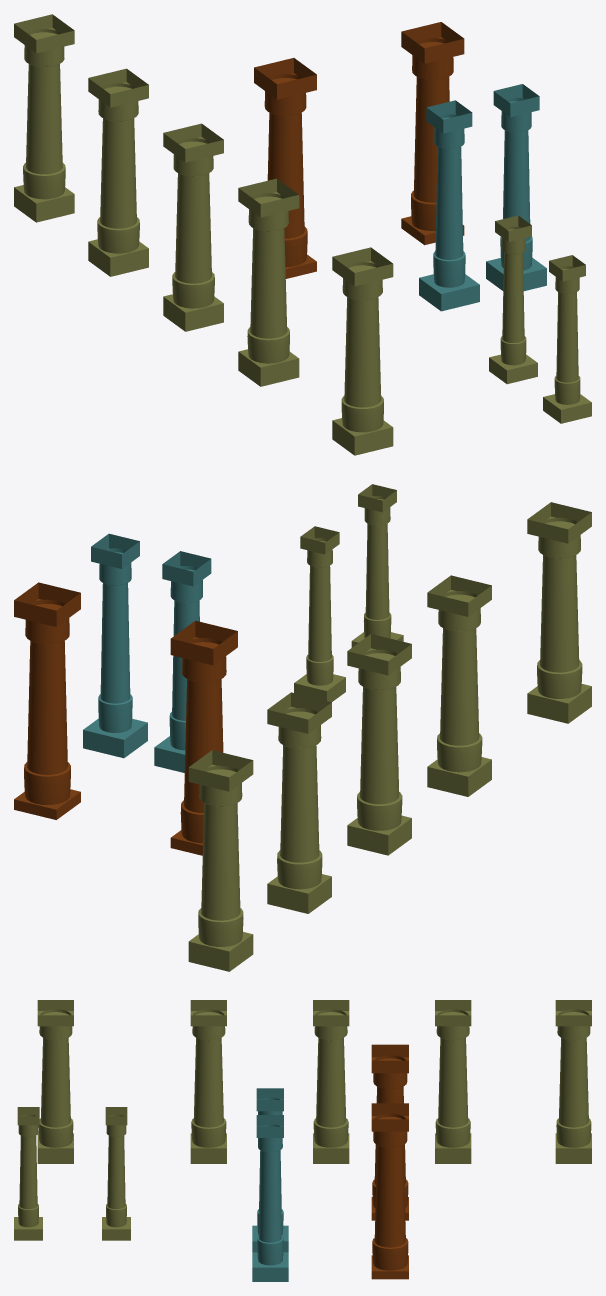
File: External_Column.fbx
3 views of the same model, one above another, from view 1: azimuth 30°, elevation 25°; view 2: azimuth 150°, elevation 25°; view 3: azimuth 270°, elevation 25° (orthographic). The views are drawn at different scales.
Parts seen in each view (by area): view 1: Column_2, Column_1, Column_4, Column_3, Column_5, Column_balcon_1, Column_balcon_3, Column_balcon_4, Column_balcon_2, Column_small_2, Column_small_1; view 2: Column_balcon_4, Column_5, Column_4, Column_2, Column_1, Column_3, Column_balcon_2, Column_balcon_3, Column_small_2, Column_balcon_1, Column_small_1; view 3: Column_balcon_4, Column_5, Column_3, Column_2, Column_1, Column_4, Column_balcon_2, Column_small_1, Column_small_2, Column_balcon_3, Column_balcon_1.
Boxes of the visible parts, left/top/right/bottom form: Column_2: left=238, top=178, right=299, bottom=386; Column_1: left=332, top=247, right=393, bottom=455; Column_4: left=88, top=68, right=148, bottom=276; Column_3: left=163, top=123, right=223, bottom=331; Column_5: left=14, top=14, right=74, bottom=222; Column_balcon_1: left=419, top=100, right=479, bottom=311; Column_balcon_3: left=254, top=58, right=316, bottom=278; Column_balcon_4: left=401, top=22, right=464, bottom=245; Column_balcon_2: left=486, top=84, right=546, bottom=291; Column_small_2: left=489, top=215, right=537, bottom=384; Column_small_1: left=543, top=255, right=591, bottom=423; Column_balcon_4: left=14, top=582, right=80, bottom=819; Column_5: left=188, top=750, right=253, bottom=971; Column_4: left=267, top=692, right=331, bottom=913; Column_2: left=427, top=575, right=491, bottom=796; Column_1: left=527, top=502, right=591, bottom=723; Column_3: left=347, top=634, right=411, bottom=855; Column_balcon_2: left=83, top=533, right=147, bottom=758; Column_balcon_3: left=170, top=620, right=237, bottom=855; Column_small_2: left=294, top=526, right=345, bottom=702; Column_balcon_1: left=154, top=551, right=211, bottom=772; Column_small_1: left=351, top=484, right=403, bottom=647; Column_balcon_4: left=371, top=1103, right=408, bottom=1279; Column_5: left=555, top=1000, right=591, bottom=1163; Column_3: left=313, top=1000, right=349, bottom=1163; Column_2: left=190, top=1000, right=226, bottom=1163; Column_1: left=37, top=1000, right=73, bottom=1163; Column_4: left=435, top=1000, right=471, bottom=1163; Column_balcon_2: left=252, top=1115, right=288, bottom=1281; Column_small_1: left=14, top=1107, right=42, bottom=1240; Column_small_2: left=102, top=1107, right=130, bottom=1240; Column_balcon_3: left=371, top=1044, right=408, bottom=1220; Column_balcon_1: left=252, top=1088, right=288, bottom=1252.
Bounding box in the file's own units: 1524 × 884 × 2892.
